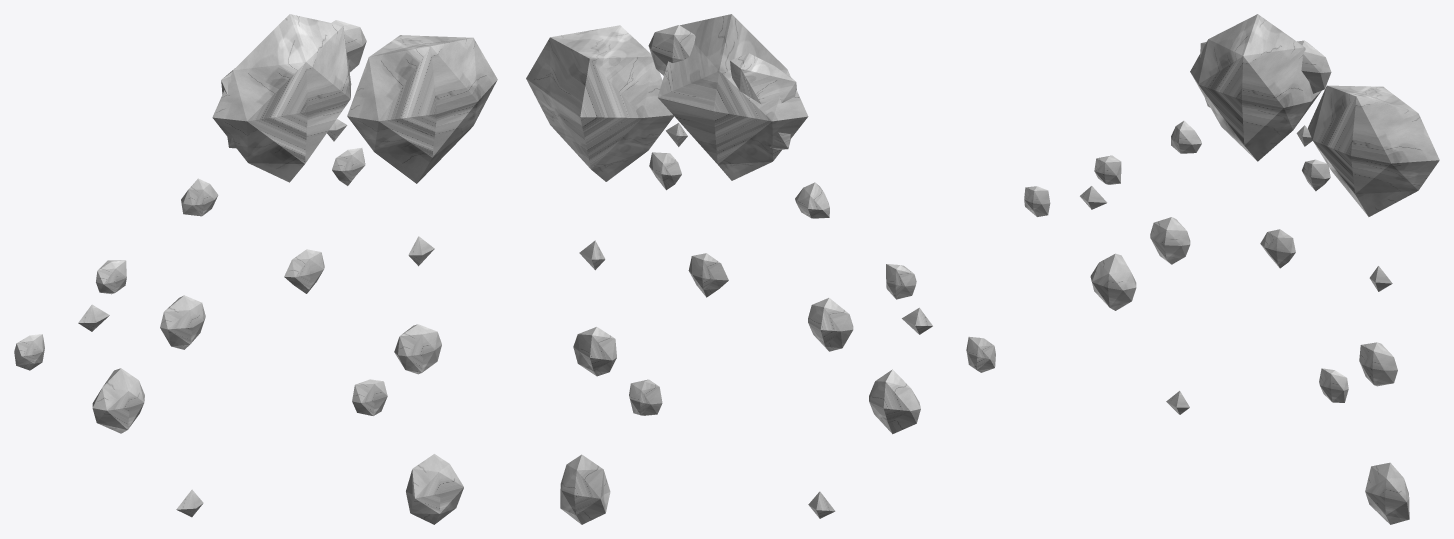
File: SM_Rocks_Scatter.obj
3 renders of one model, left to right at view 1: azimuth 30°, elevation 25°; view 2: azimuth 150°, elevation 25°; view 3: azimuth 330°, elevation 25°, orthographic. The views are drawn at different scales.
Visible parts, largest first — view 1: SM_Rocks_Scatter; view 2: SM_Rocks_Scatter; view 3: SM_Rocks_Scatter.
Part boxes in pixels (x1,y1,x2,y2): SM_Rocks_Scatter: (14,14,497,524); SM_Rocks_Scatter: (526,14,995,524); SM_Rocks_Scatter: (1024,14,1439,524).
Bounding box in the file's own units: 151 × 166 × 25.57.
3 materials, 3 textured.
